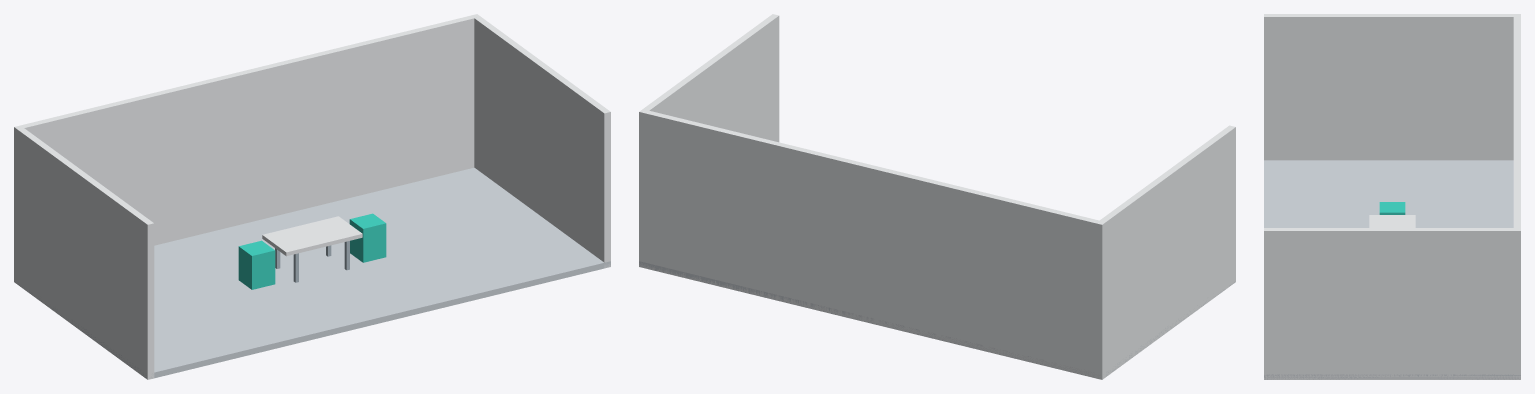
The picture shows the model from 3 angles, left to right: view 1: azimuth 30°, elevation 25°; view 2: azimuth 150°, elevation 25°; view 3: azimuth 270°, elevation 25°; orthographic projection. The views are drawn at different scales.
Parts seen in each view (by area): view 1: Exhibition Booth Concept; view 2: Exhibition Booth Concept; view 3: Exhibition Booth Concept.
Boxes of the visible parts, x1,y1,x2,y2 form: Exhibition Booth Concept: (14, 14, 610, 379); Exhibition Booth Concept: (639, 14, 1235, 379); Exhibition Booth Concept: (1264, 14, 1520, 379).
Bounding box in the file's own units: 10 × 3.2 × 5.
